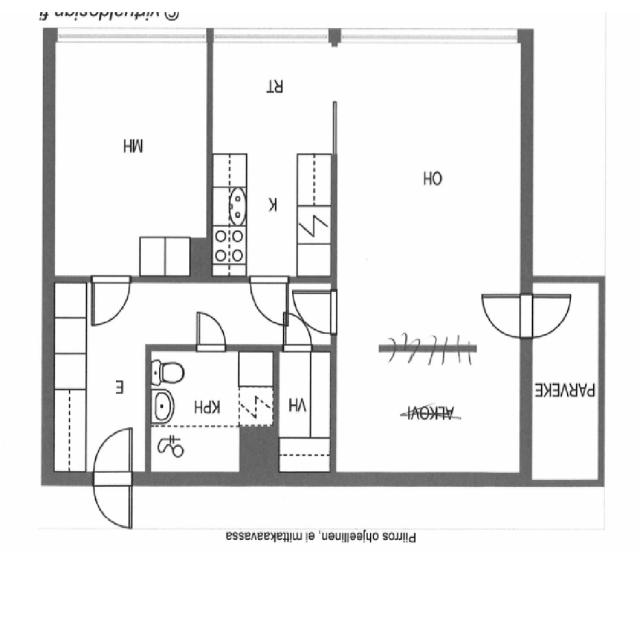door: (286, 282, 338, 349), (85, 271, 135, 329), (476, 289, 532, 340), (245, 273, 291, 329), (522, 288, 572, 339), (189, 306, 231, 356), (282, 322, 314, 355)
window: (349, 29, 521, 56), (211, 27, 332, 48)
zone: (336, 36, 528, 332), (50, 38, 213, 273), (210, 37, 330, 279), (339, 346, 523, 481), (146, 344, 278, 480), (529, 278, 602, 484), (277, 348, 333, 475), (86, 420, 138, 534)
